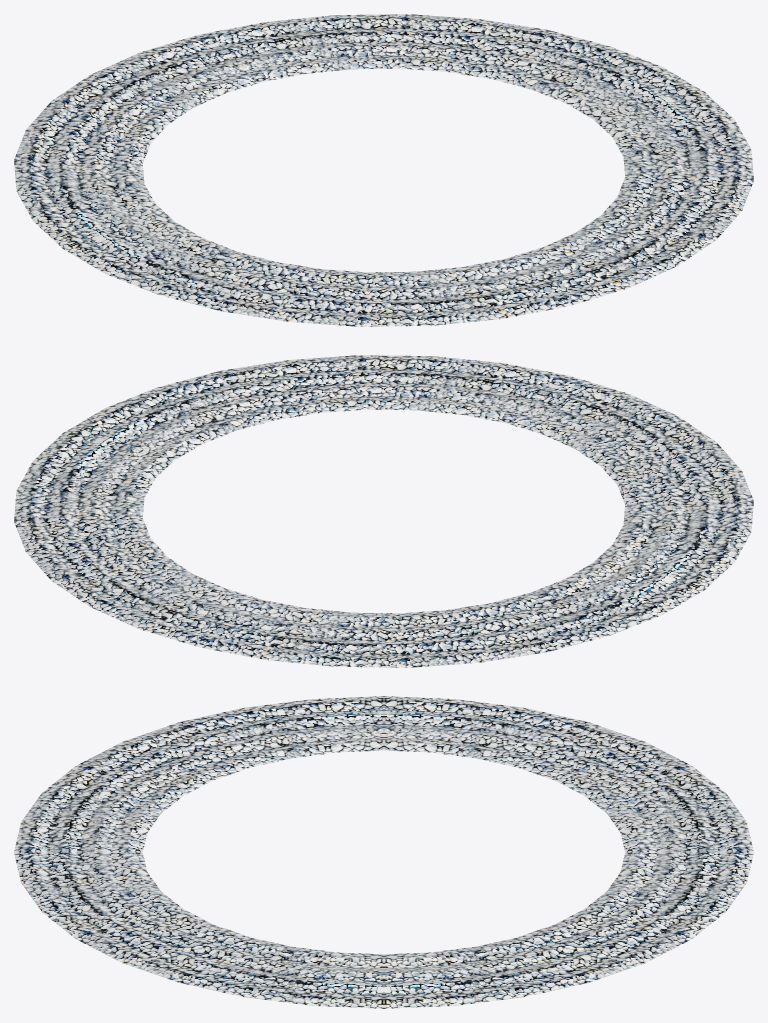
File: Zen_stone_fields.glb
The picture shows the model from 3 angles, top to bottom: view 1: azimuth 30°, elevation 25°; view 2: azimuth 150°, elevation 25°; view 3: azimuth 270°, elevation 25°; orthographic projection.
Visible parts, largest first — view 1: Circle; view 2: Circle; view 3: Circle.
Part boxes in pixels (left/top/right/bottom): Circle: left=14, top=14, right=753, bottom=326; Circle: left=14, top=355, right=753, bottom=667; Circle: left=14, top=696, right=753, bottom=1008.
Bounding box in the file's own units: 30.79 × 0.0982 × 30.79.
Materials: 1 (1 with a texture image).
